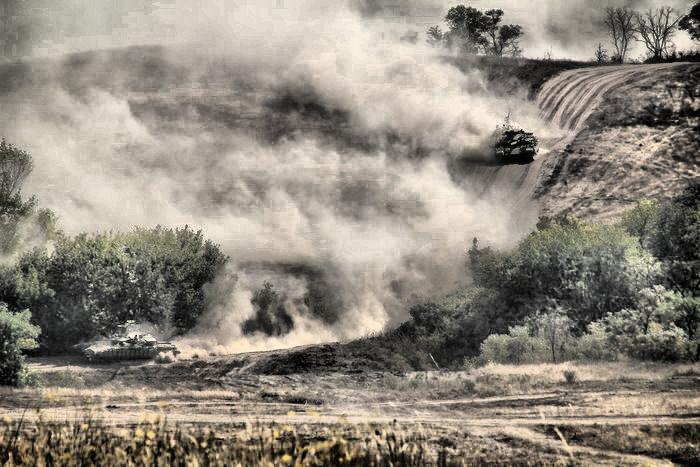military-vehicle: (491, 128, 537, 163)
